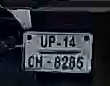1: (63, 35, 69, 50)
2: (60, 55, 69, 71)
4: (68, 36, 76, 49)
5: (76, 54, 84, 71)
8: (50, 54, 63, 70), (68, 55, 76, 72)
C: (27, 54, 35, 68)
H: (35, 54, 44, 69)
P: (48, 33, 56, 50)
U: (39, 34, 48, 48)
